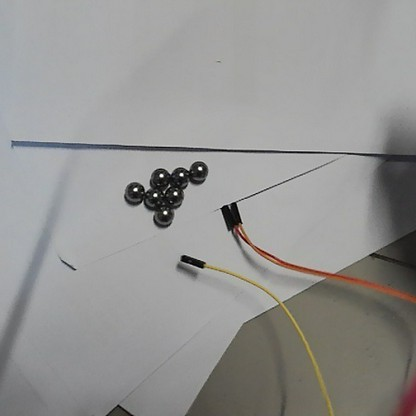ironball: (124, 181, 144, 201), (150, 167, 169, 187), (188, 160, 207, 180), (153, 207, 173, 225), (170, 166, 188, 186), (145, 187, 163, 205), (164, 187, 183, 204)
